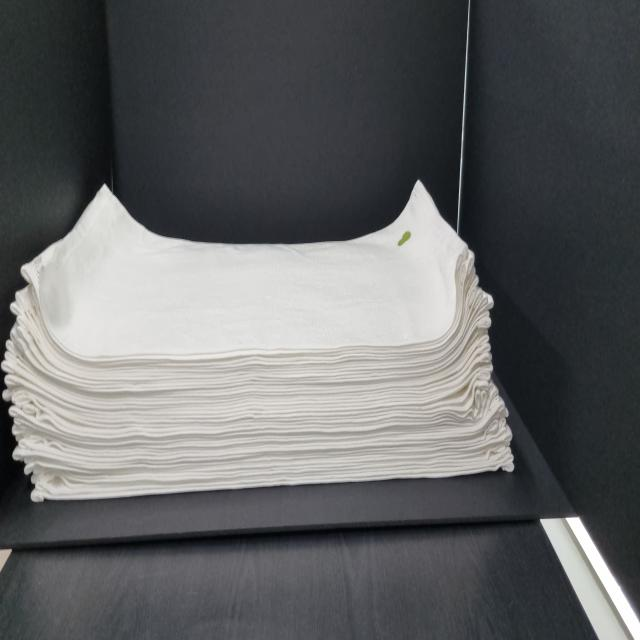not_50count_towel: (0, 151, 535, 514)
